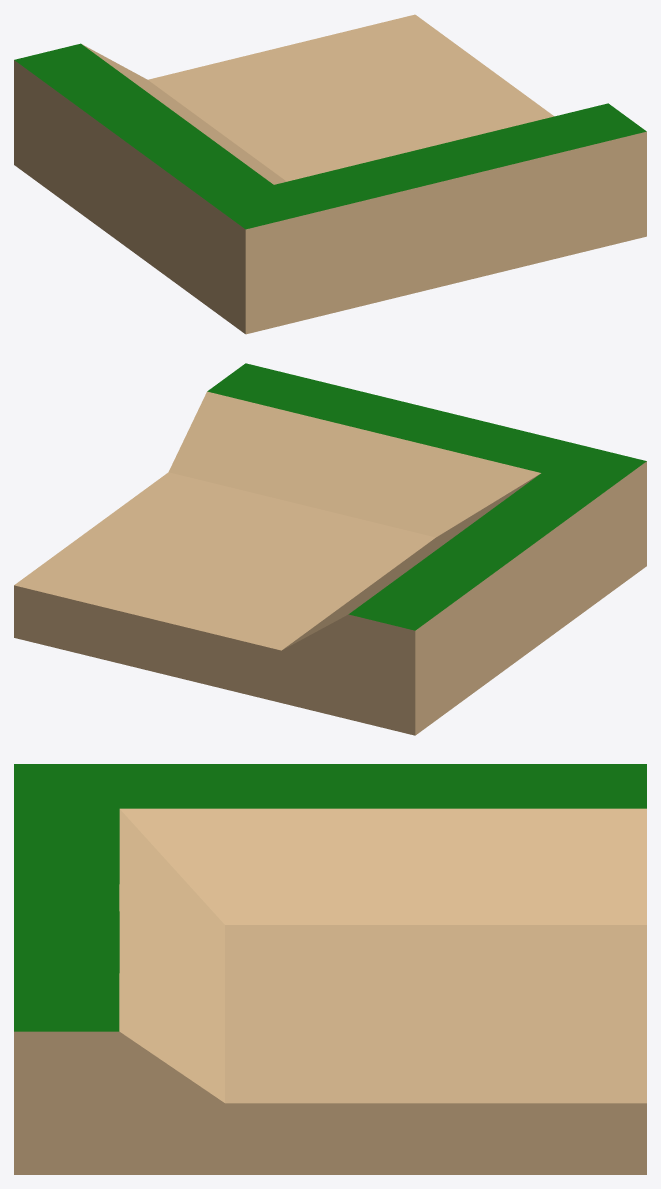
File: tile_corner.glb
3 renders of one model, top to bottom at view 1: azimuth 30°, elevation 25°; view 2: azimuth 150°, elevation 25°; view 3: azimuth 270°, elevation 25°, orthographic. The views are drawn at different scales.
Visible parts, largest first — view 1: Plane.013; view 2: Plane.013; view 3: Plane.013.
Part boxes in pixels (<box>): Plane.013: <box>14,14,646,334</box>; Plane.013: <box>14,363,646,735</box>; Plane.013: <box>14,764,646,1174</box>.
Bounding box in the file's own units: 2 × 0.5 × 2.
